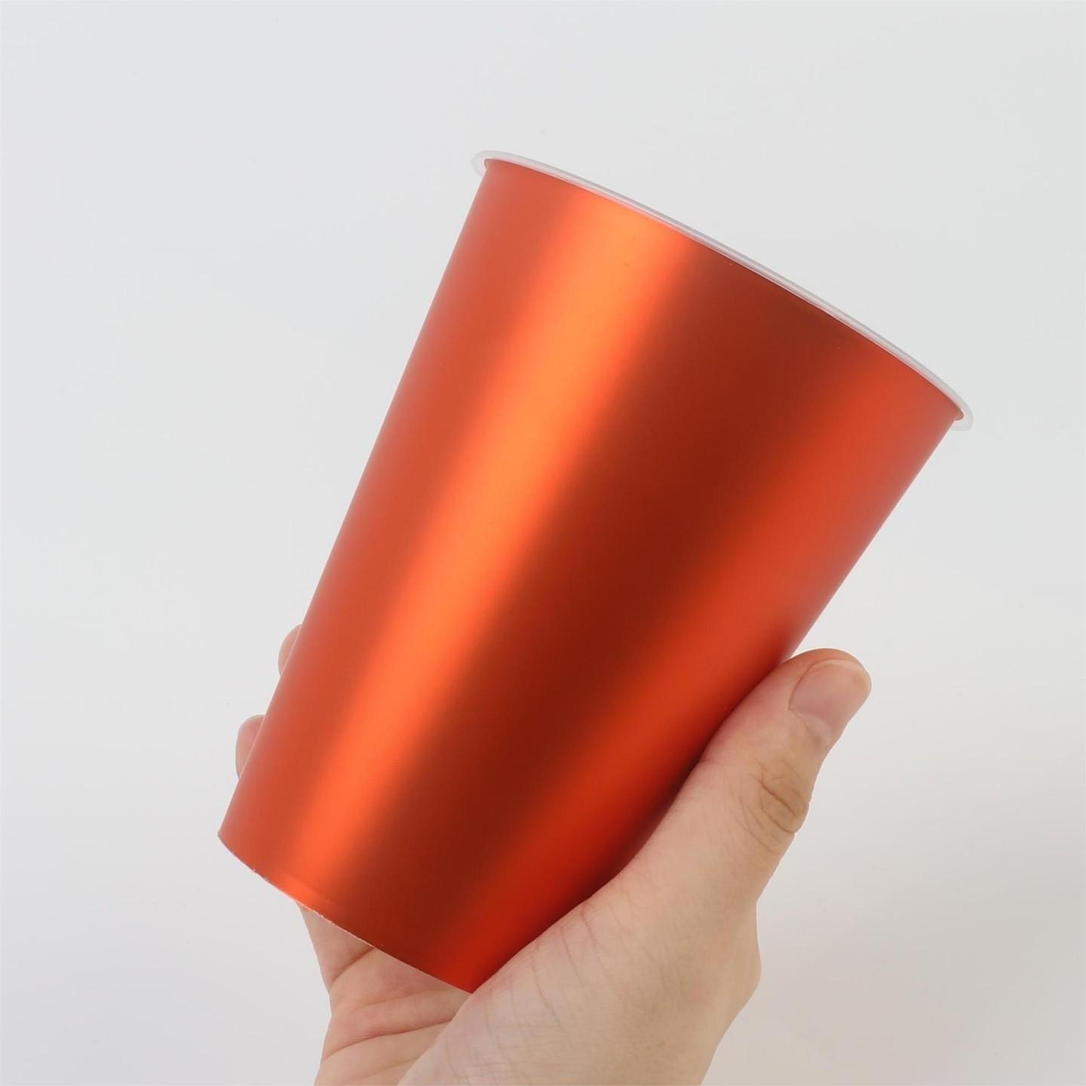cup-disposable: (163, 140, 980, 1005)
